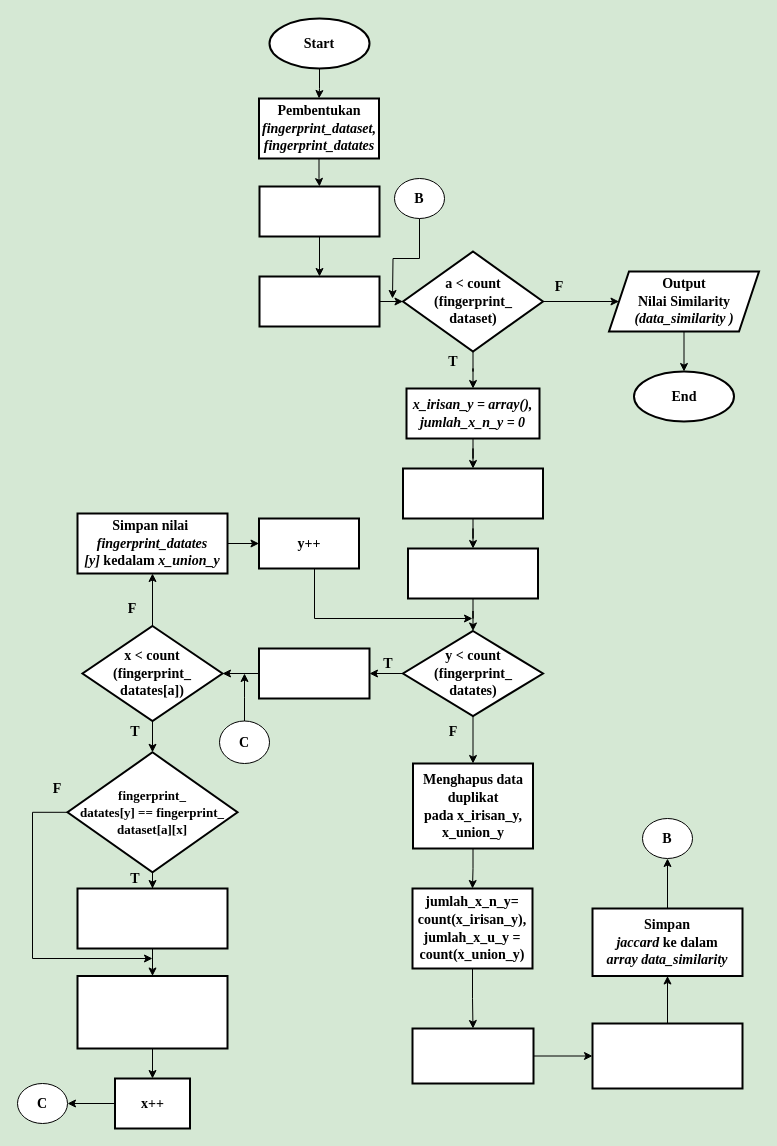
Image size: 777x1146. Some labels were removed from this diagram. The centre of each missing label's shape, as x and y in pixels:
a = 0: the point at 319,301
data_similarity = array(): the point at 319,211
jaccard = (jumlah_x_n_y/ jumlah_x_u_y)*100: the point at 667,1055
jaccard = 0: the point at 472,1055
Simpan nilai fingerprint_dataset [a][x] ke dalam x_union_y: the point at 152,1011
Simpan nilai fingerprint_datates[y] ke dalam array x_irisan_y: the point at 152,918
x = 0: the point at 314,673
x_union_y = array(), jumlah_x_u_y = 0: the point at 473,493
y = 0: the point at 472,573
